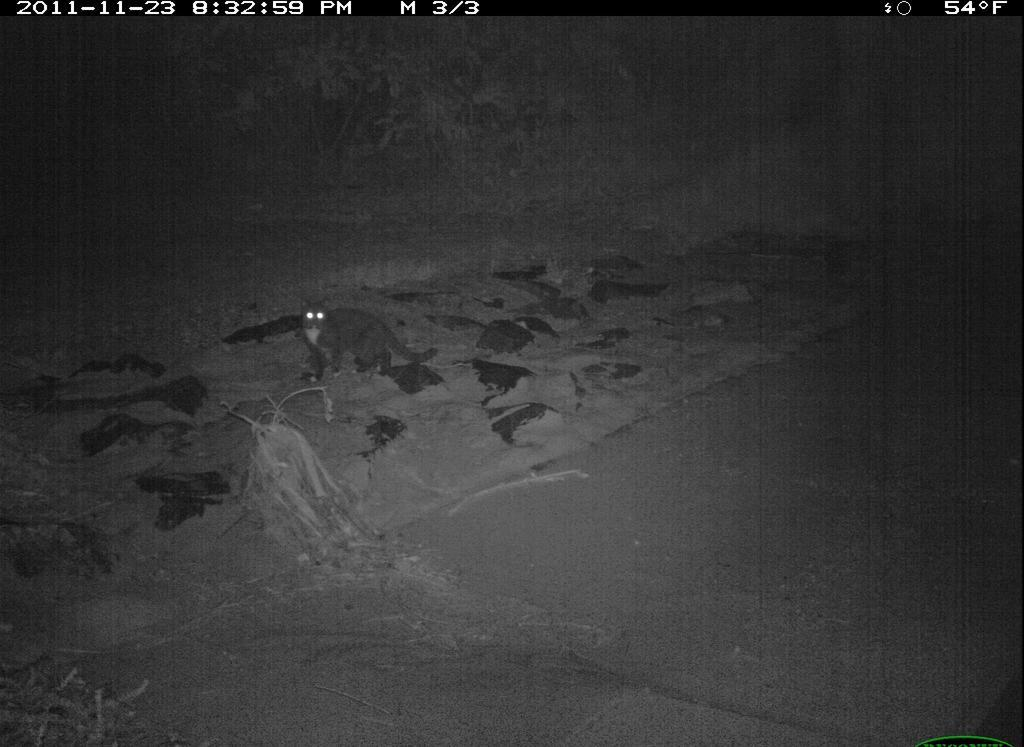cat: (299, 292, 443, 386)
